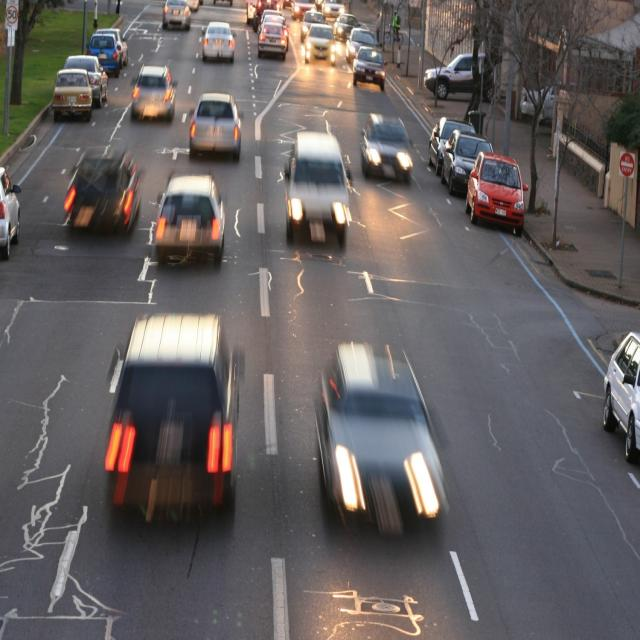Carro Amarelo: (50, 67, 96, 122)
Carro Azul Escuro: (85, 32, 125, 80)
Carro Branco: (148, 168, 241, 271), (603, 322, 640, 474), (418, 49, 508, 101), (0, 165, 24, 264), (199, 19, 239, 63)
Carro Cinza: (304, 340, 448, 538), (284, 132, 352, 250), (357, 112, 414, 182), (348, 44, 392, 94)
Carro Prata: (187, 90, 245, 158), (130, 62, 178, 123)
Carro Preto: (102, 311, 257, 526), (60, 144, 148, 242), (436, 132, 502, 188), (426, 115, 483, 172)
Carro Vermelho: (462, 155, 529, 233)
Taxi: (301, 20, 344, 70)
